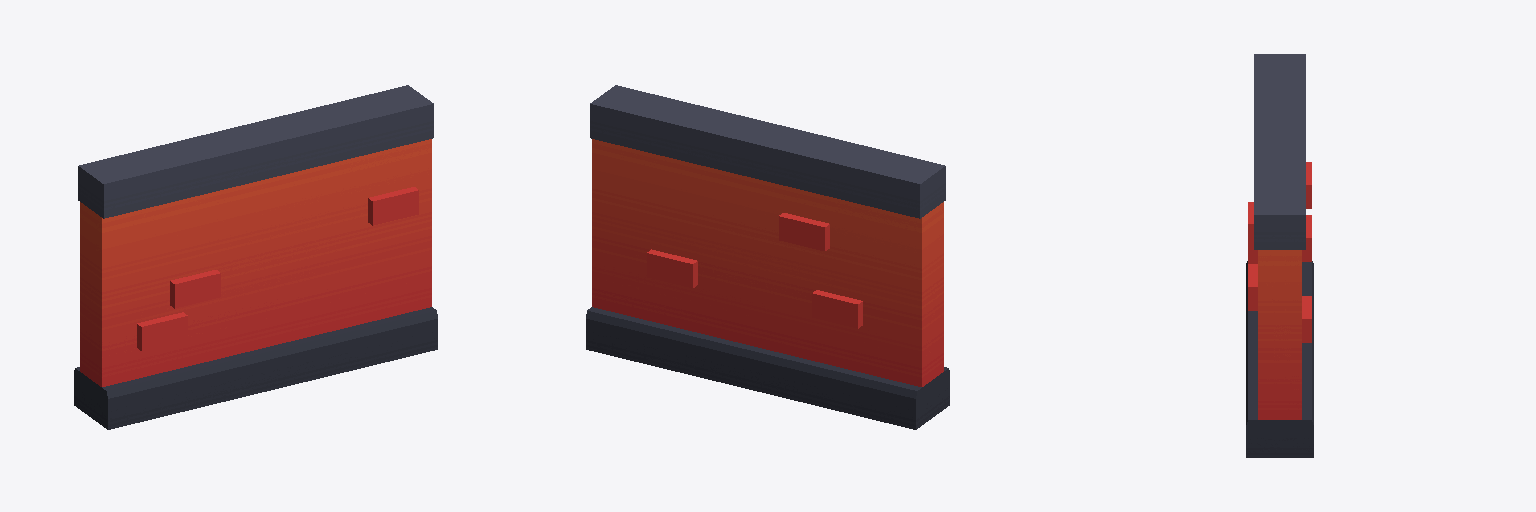
The picture shows the model from 3 angles: view 1: azimuth 30°, elevation 25°; view 2: azimuth 150°, elevation 25°; view 3: azimuth 270°, elevation 25°; orthographic projection.
Visible parts, largest first — view 1: brick-wall.009; view 2: brick-wall.009; view 3: brick-wall.009.
Part boxes in pixels (x1,y1,x2,y2): brick-wall.009: (74, 85, 437, 429); brick-wall.009: (586, 85, 949, 429); brick-wall.009: (1246, 54, 1313, 457).
Size of the model in its own units: 2.45 by 1.72 by 0.441.
Materials: 1 (1 with a texture image).